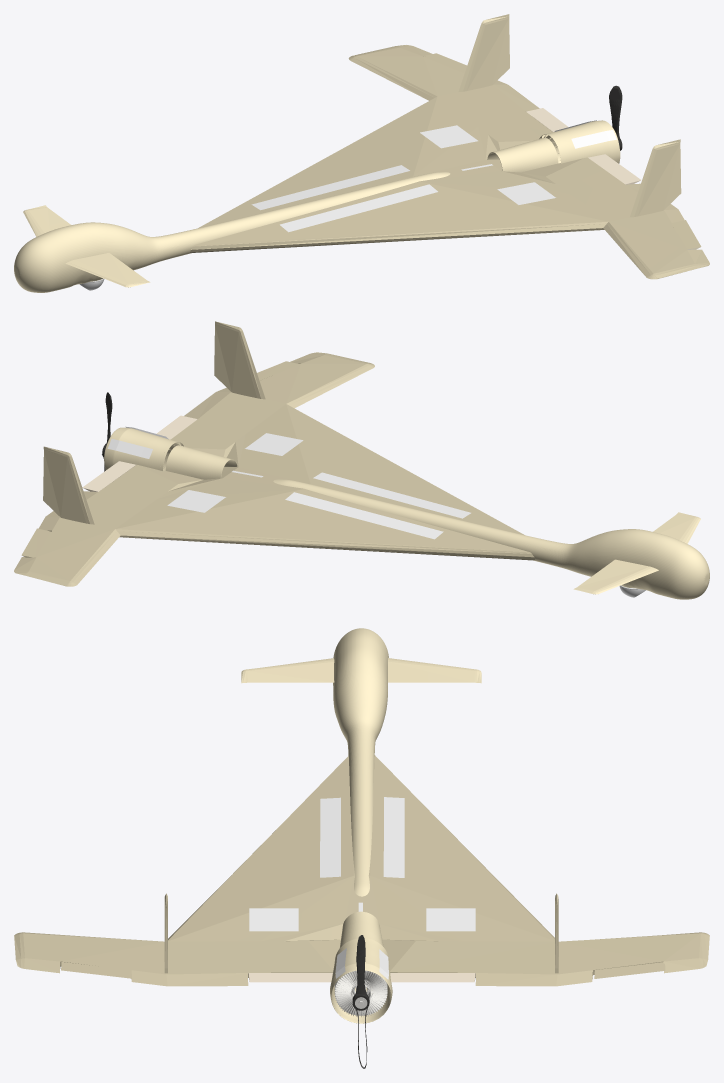
File: enemy.glb
The picture shows the model from 3 angles, top to bottom: view 1: azimuth 30°, elevation 25°; view 2: azimuth 150°, elevation 25°; view 3: azimuth 270°, elevation 25°; orthographic projection. The views are drawn at different scales.
Parts seen in each view (by area): view 1: Wing, Fuselage, V Stabs, Cowling, ISAF Logo, Canards, Star Logo, Inner Ailerons, Prop Logo, Prop; view 2: Wing, Fuselage, V Stabs, Cowling, ISAF Logo, Canards, Star Logo, Inner Ailerons, Prop Logo; view 3: Wing, Fuselage, Canards, ISAF Logo, Cowling, Star Logo, Inner Ailerons, cylinder 1, Prop.
Boxes of the visible parts, x1=… form: Wing: x1=190, y1=45, x2=709, y2=279; Fuselage: x1=14, y1=172, x2=450, y2=292; V Stabs: x1=458, y1=14, x2=681, y2=217; Cowling: x1=487, y1=120, x2=620, y2=172; ISAF Logo: x1=251, y1=165, x2=437, y2=232; Canards: x1=23, y1=205, x2=150, y2=287; Star Logo: x1=420, y1=125, x2=555, y2=204; Inner Ailerons: x1=526, y1=108, x2=641, y2=184; Prop Logo: x1=554, y1=120, x2=616, y2=148; Prop: x1=609, y1=85, x2=622, y2=150; Wing: x1=14, y1=352, x2=534, y2=586; Fuselage: x1=273, y1=479, x2=709, y2=599; V Stabs: x1=43, y1=321, x2=265, y2=524; Cowling: x1=104, y1=427, x2=237, y2=479; ISAF Logo: x1=285, y1=472, x2=470, y2=539; Canards: x1=573, y1=512, x2=700, y2=594; Star Logo: x1=167, y1=433, x2=303, y2=512; Inner Ailerons: x1=82, y1=415, x2=197, y2=491; Prop Logo: x1=107, y1=426, x2=168, y2=458; Wing: x1=14, y1=755, x2=709, y2=986; Fuselage: x1=333, y1=628, x2=388, y2=896; Canards: x1=241, y1=658, x2=481, y2=683; ISAF Logo: x1=320, y1=797, x2=404, y2=877; Cowling: x1=330, y1=911, x2=392, y2=1023; Star Logo: x1=249, y1=908, x2=475, y2=931; Inner Ailerons: x1=248, y1=973, x2=475, y2=982; cylinder 1: x1=334, y1=970, x2=387, y2=1016; Prop: x1=352, y1=935, x2=369, y2=1068.
Size of the model in its own units: 15.92 by 3.3 by 13.92.
